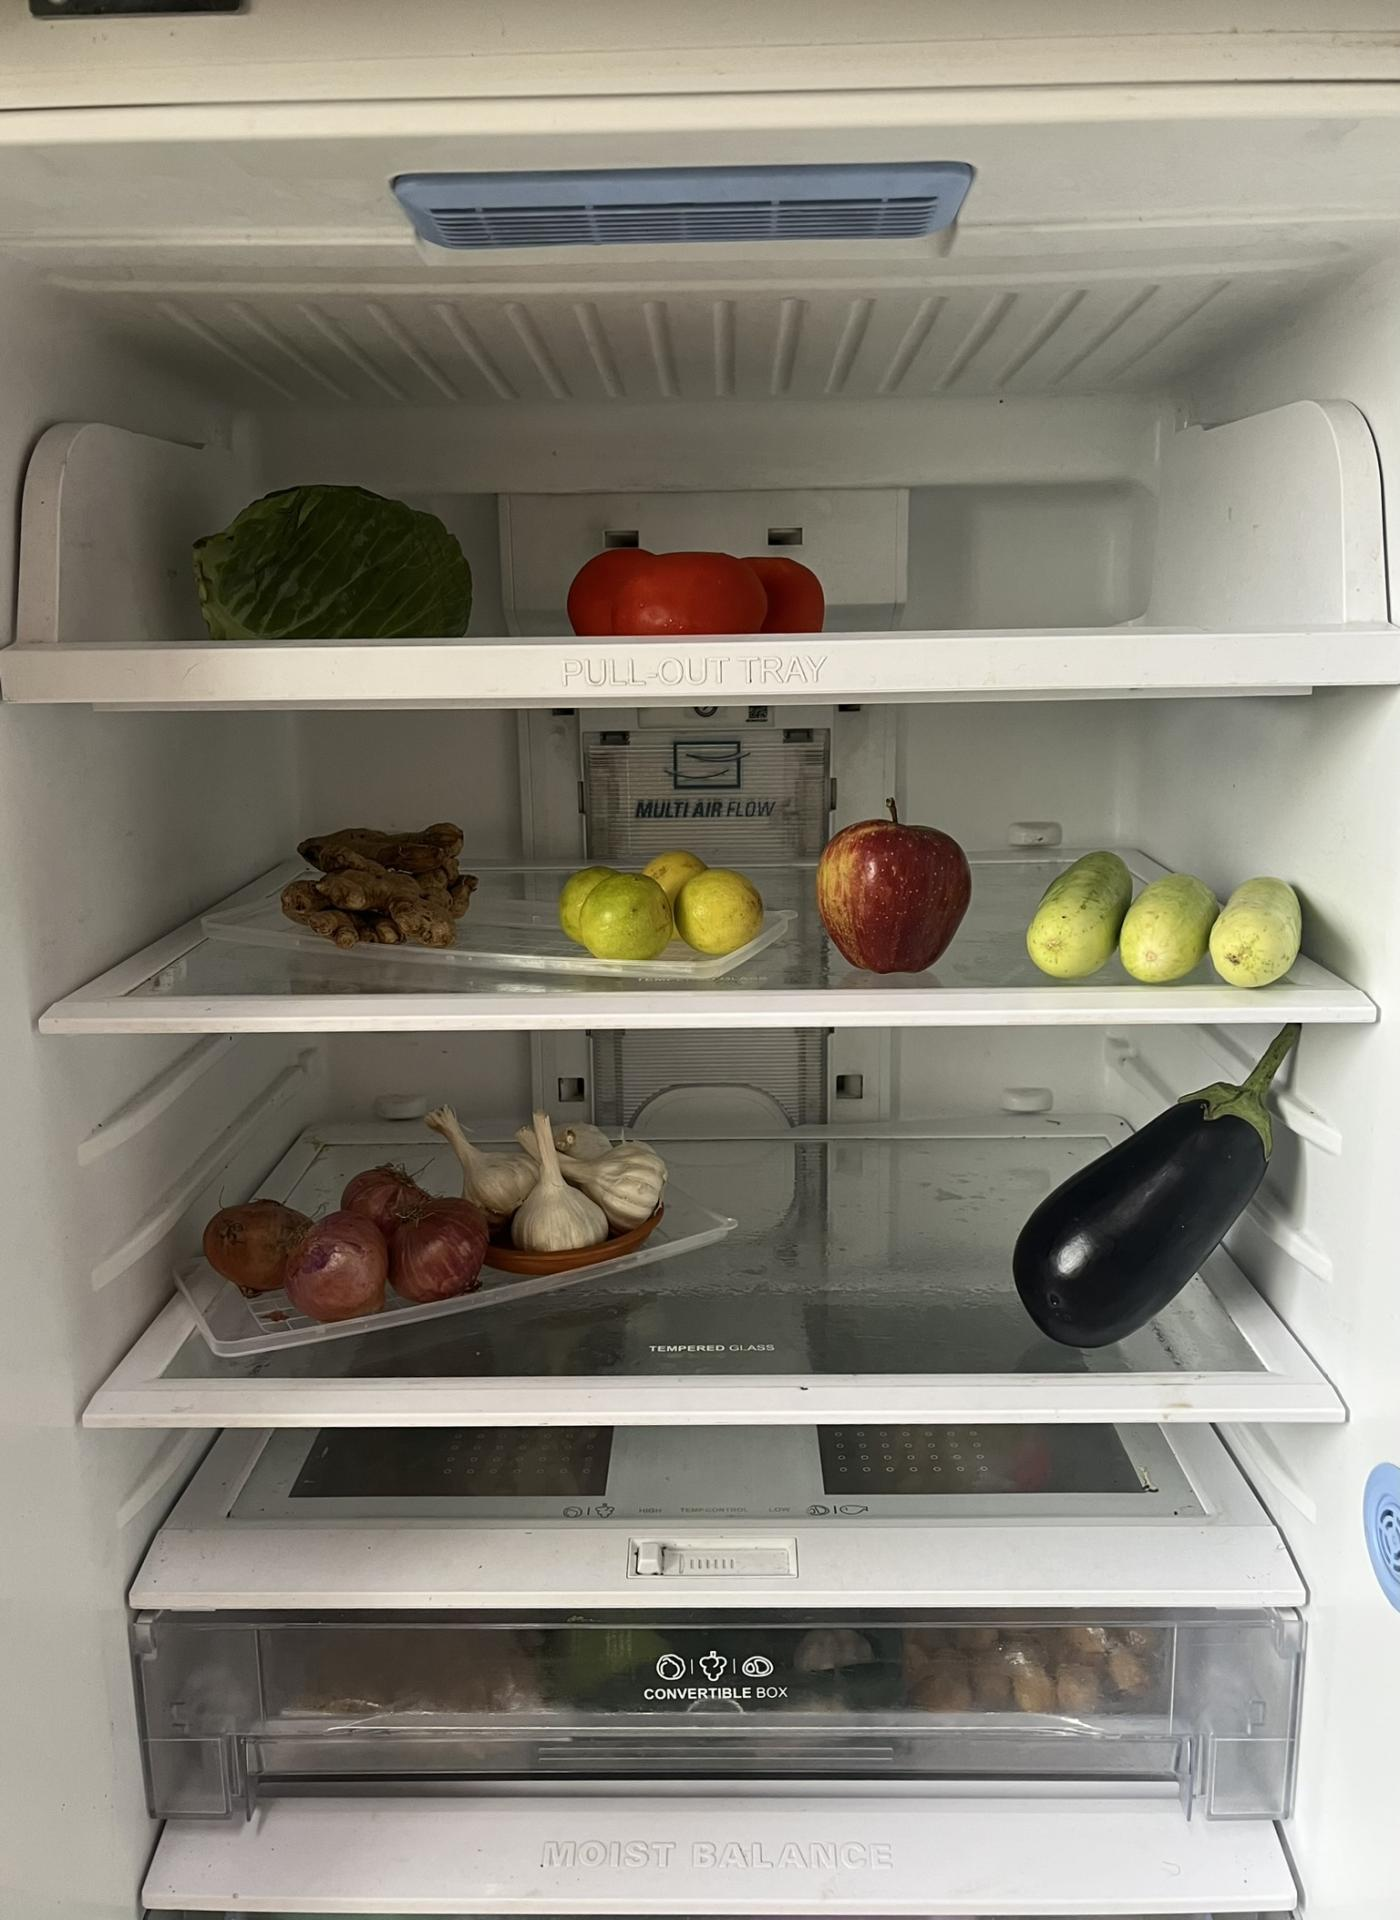apple: (1032, 850, 1303, 984), (826, 808, 969, 972)
cabbage: (180, 484, 474, 637)
garlic: (458, 1099, 669, 1280)
ginger: (294, 817, 480, 953)
lemon: (562, 841, 757, 961)
onion: (212, 1169, 488, 1309)
tomato: (571, 546, 819, 628)
